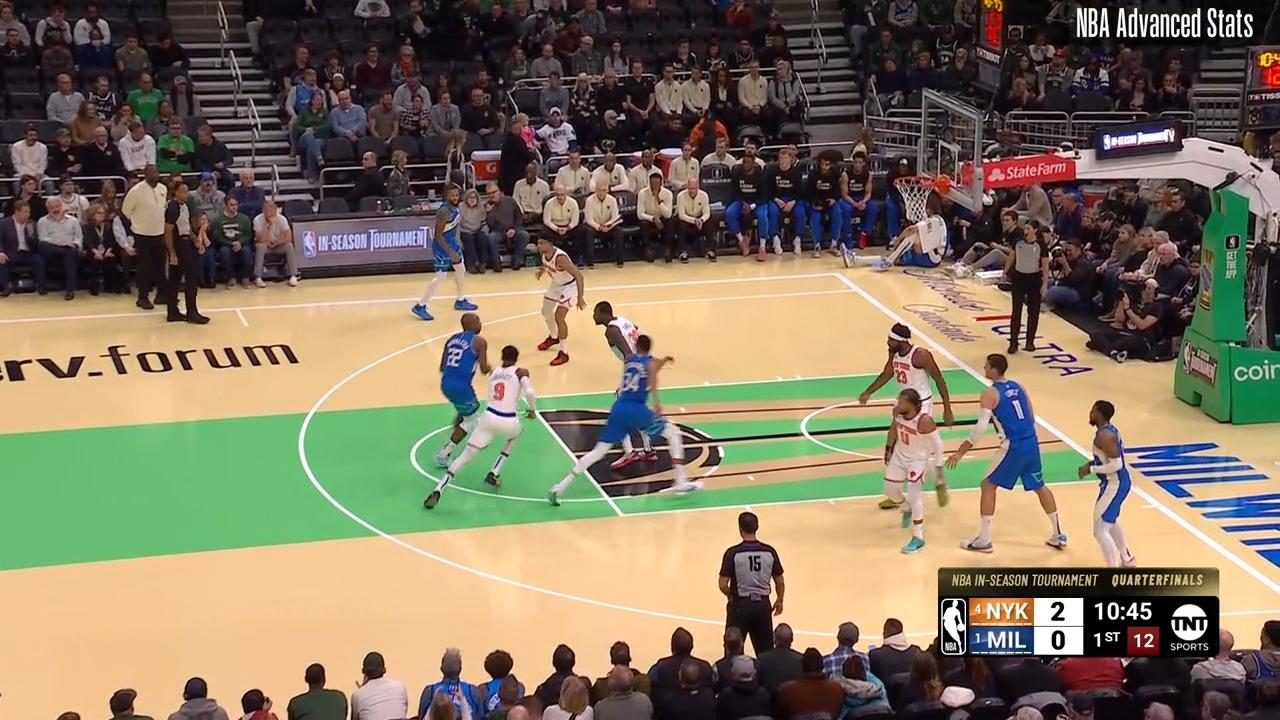Backboard: (926, 94, 984, 190)
Basket: (894, 172, 945, 224)
Person: (545, 335, 699, 506), (968, 352, 1071, 554), (433, 342, 537, 505), (1078, 373, 1151, 572), (861, 321, 939, 502), (589, 305, 666, 471), (882, 387, 944, 558), (425, 310, 490, 466), (521, 231, 589, 357), (421, 185, 481, 316)
Referee: (725, 505, 789, 653), (1006, 217, 1056, 361), (168, 177, 211, 323)
Shot Clock: (976, 4, 1008, 93), (1251, 47, 1280, 128)
